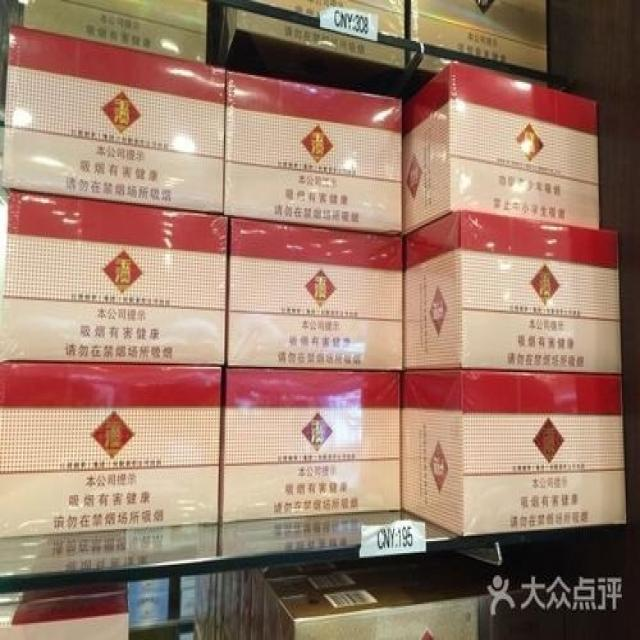box: (2, 28, 228, 213), (0, 196, 230, 365), (0, 365, 223, 538), (401, 368, 627, 536), (402, 210, 621, 372), (402, 62, 601, 234), (223, 72, 402, 235), (221, 368, 401, 525), (225, 219, 402, 370), (259, 544, 521, 638), (276, 564, 547, 638), (212, 1, 406, 97), (402, 1, 548, 101), (23, 1, 207, 63), (0, 593, 129, 638), (0, 576, 125, 602)
